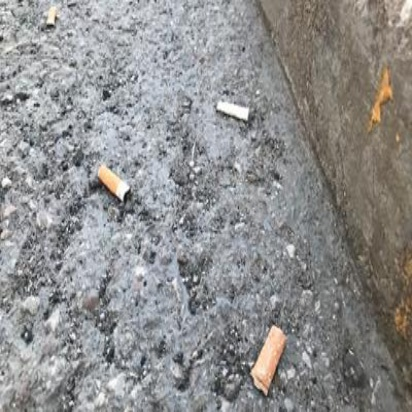cigarette: (245, 320, 293, 394), (97, 160, 136, 201), (210, 98, 253, 128), (43, 5, 57, 30)
